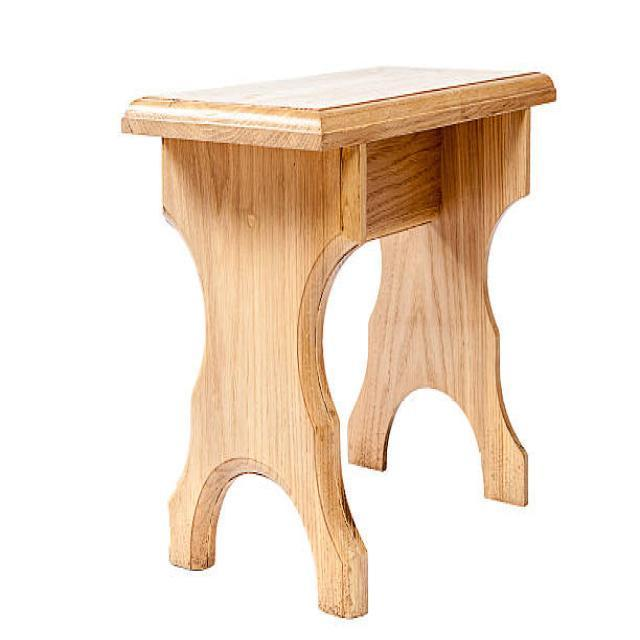table: (120, 62, 556, 618)
